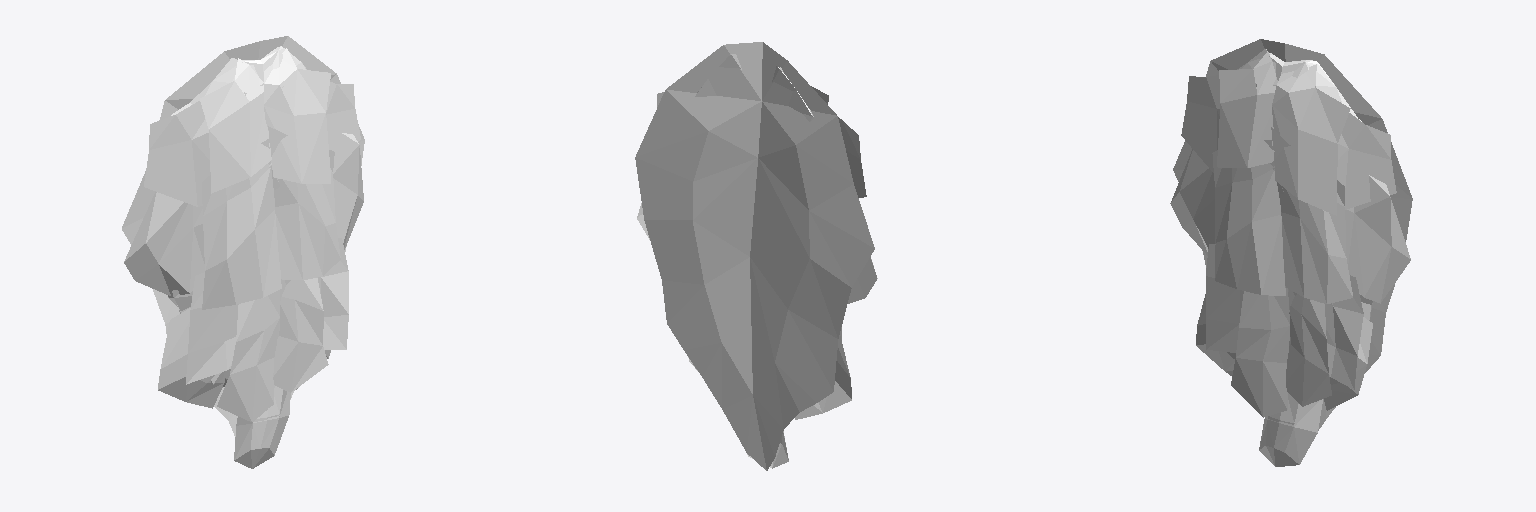
Rendered from goatskin.obj.
The picture shows the model from 3 angles: view 1: azimuth 30°, elevation 25°; view 2: azimuth 150°, elevation 25°; view 3: azimuth 330°, elevation 25°; orthographic projection.
Visible parts, largest first — view 1: GoatPelt:0; view 2: GoatPelt:0; view 3: GoatPelt:0.
Part boxes in pixels (bbox=[...]): GoatPelt:0: bbox=[122, 36, 364, 468]; GoatPelt:0: bbox=[635, 42, 877, 470]; GoatPelt:0: bbox=[1170, 39, 1412, 466].
Size of the model in its own units: 58.7 by 98.95 by 11.54.